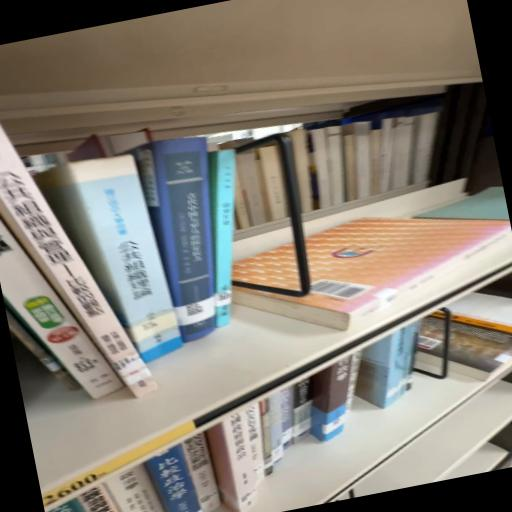flat: (232, 219, 512, 331)
